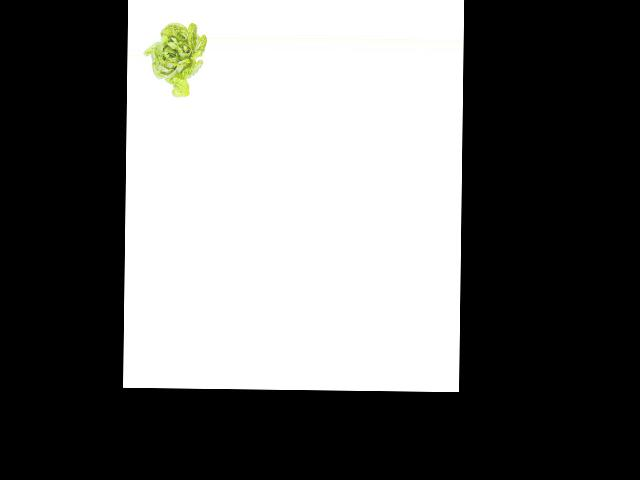lettuce: (143, 21, 204, 100)
